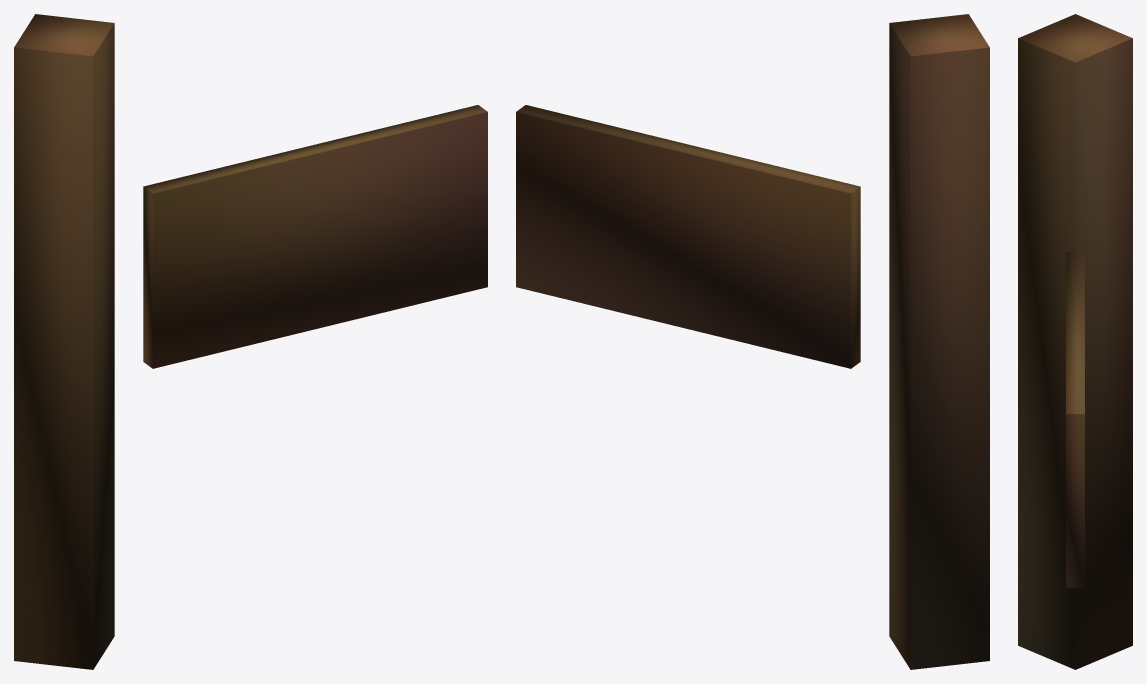
The model's file is prop_bk_foret_broceliande_0001.glb.
3 renders of one model, left to right at view 1: azimuth 30°, elevation 25°; view 2: azimuth 150°, elevation 25°; view 3: azimuth 270°, elevation 25°, orthographic.
Parts seen in each view (by area): view 1: prop_bk_001; view 2: prop_bk_001; view 3: prop_bk_001.
Part boxes in pixels (x1,y1,x2,y2): prop_bk_001: (14,14,487,669); prop_bk_001: (516,14,989,669); prop_bk_001: (1018,14,1132,669).
Bounding box in the file's own units: 0.28 × 0.35 × 0.06.
